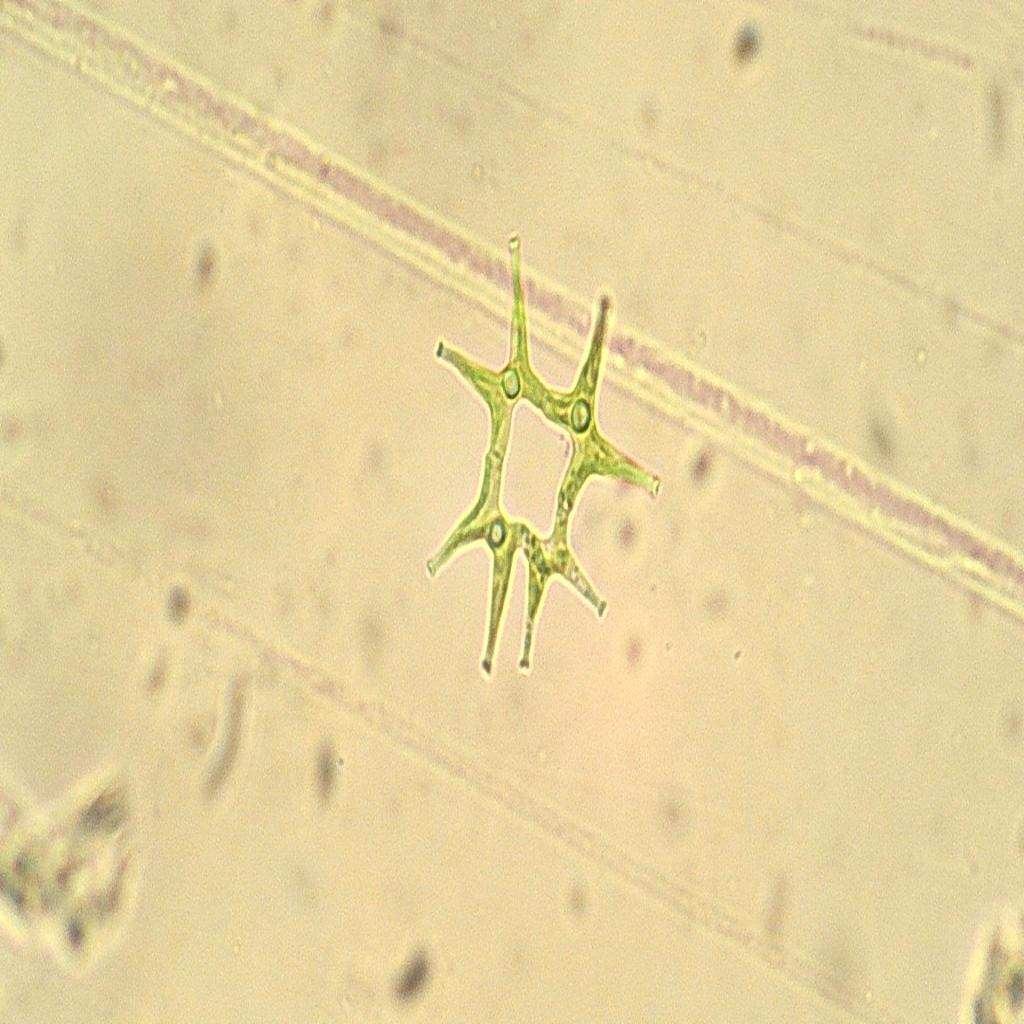Pediastrum_75O: (397, 217, 673, 703)
